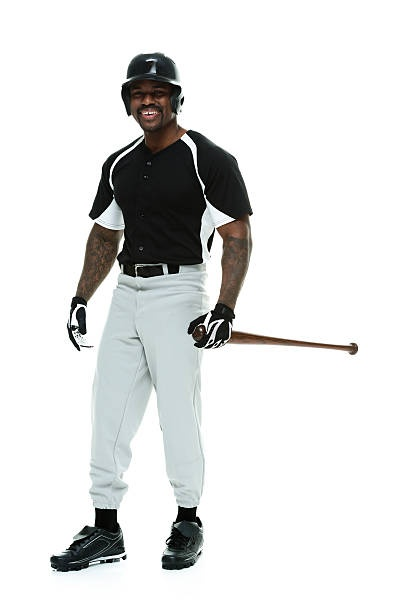bita: (195, 319, 371, 357)
